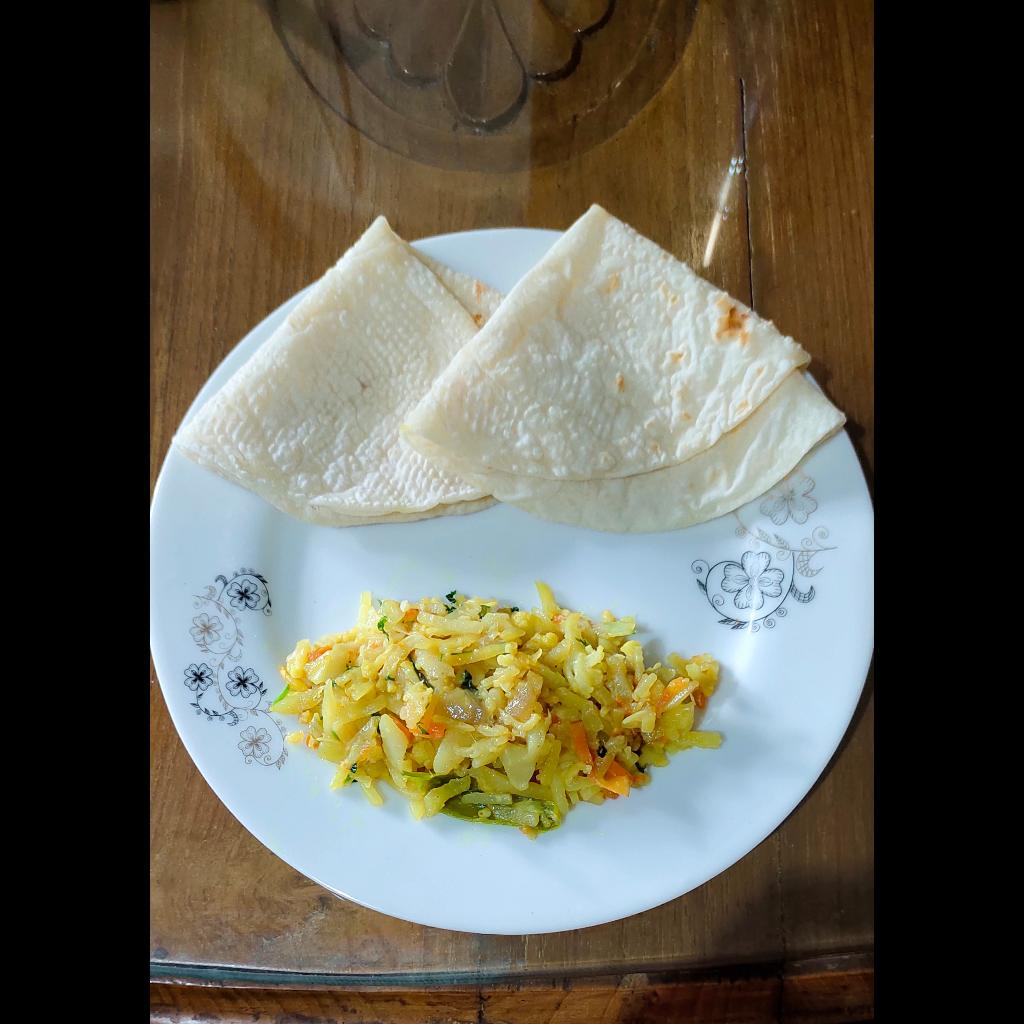ruti: (166, 202, 841, 533)
vaji: (273, 579, 728, 838)
